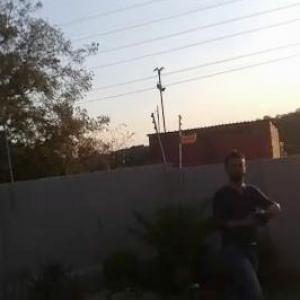follow: (209, 146, 288, 299)
